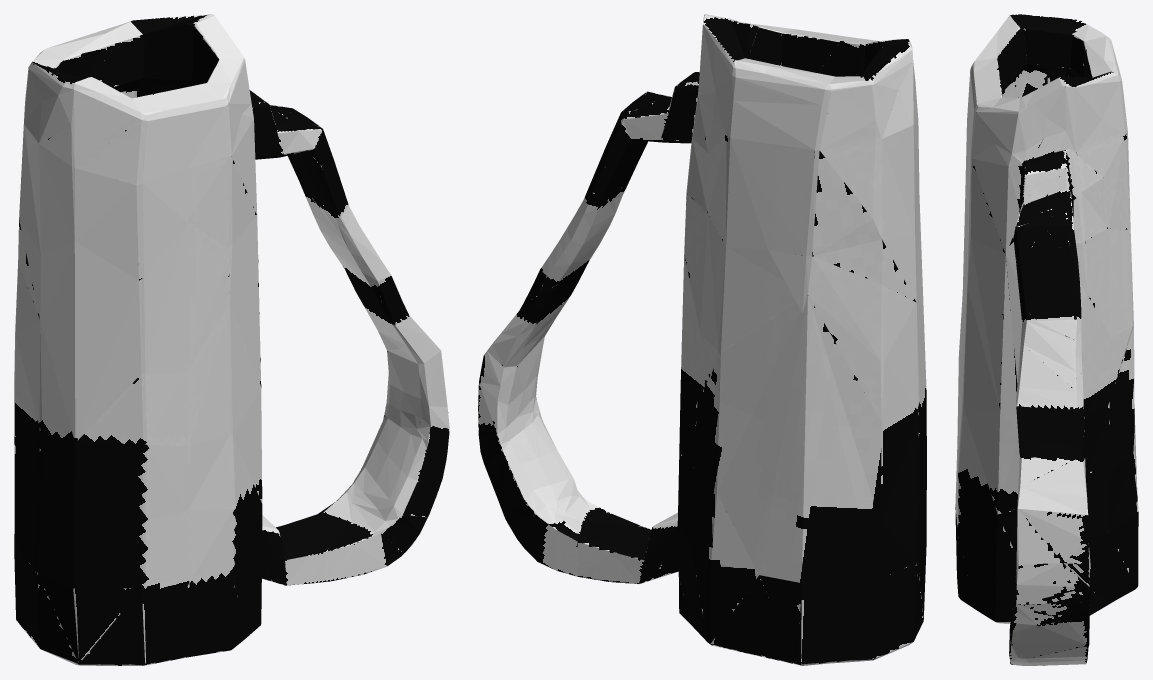
3 views of the same model, side by side, from view 1: azimuth 30°, elevation 25°; view 2: azimuth 150°, elevation 25°; view 3: azimuth 270°, elevation 25° (orthographic). The views are drawn at different scales.
Visible parts, largest first — view 1: OBJ08d; view 2: OBJ08d; view 3: OBJ08d.
Boxes of the visible parts, x1,y1,x2,y2 form: OBJ08d: [14, 14, 449, 665]; OBJ08d: [478, 14, 926, 665]; OBJ08d: [955, 14, 1138, 665].
Size of the model in its own units: 0.2115 by 0.2951 by 0.0916.
1 material, 1 textured.
